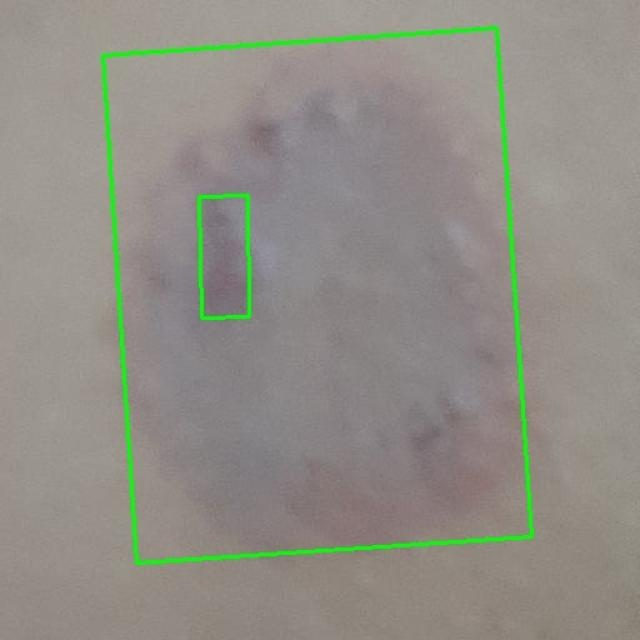Eczema: (103, 28, 532, 563), (200, 196, 249, 318)
